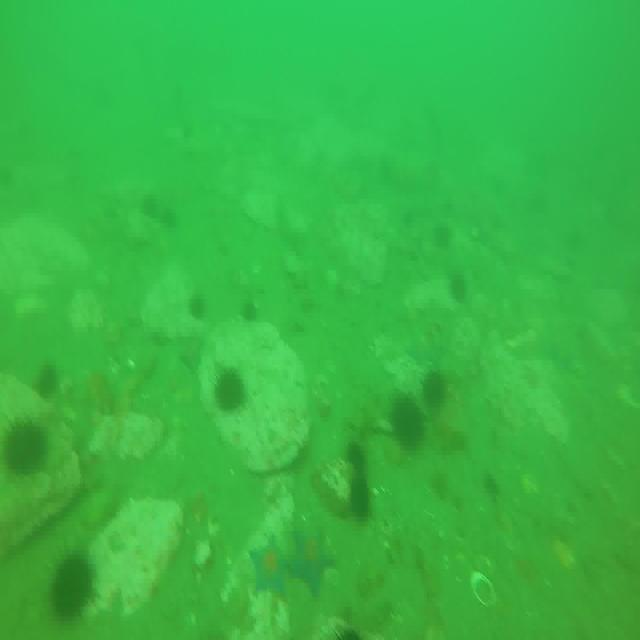echinus: (51, 552, 96, 624), (3, 422, 52, 473), (393, 394, 426, 447), (212, 366, 247, 407), (32, 365, 58, 402), (346, 438, 369, 478), (423, 372, 449, 406), (349, 477, 371, 517), (450, 270, 470, 308), (138, 192, 160, 222), (242, 298, 257, 330), (189, 293, 205, 322), (162, 206, 179, 230), (436, 223, 451, 245)
starfish: (248, 535, 292, 600), (290, 532, 336, 592), (405, 337, 437, 369)
